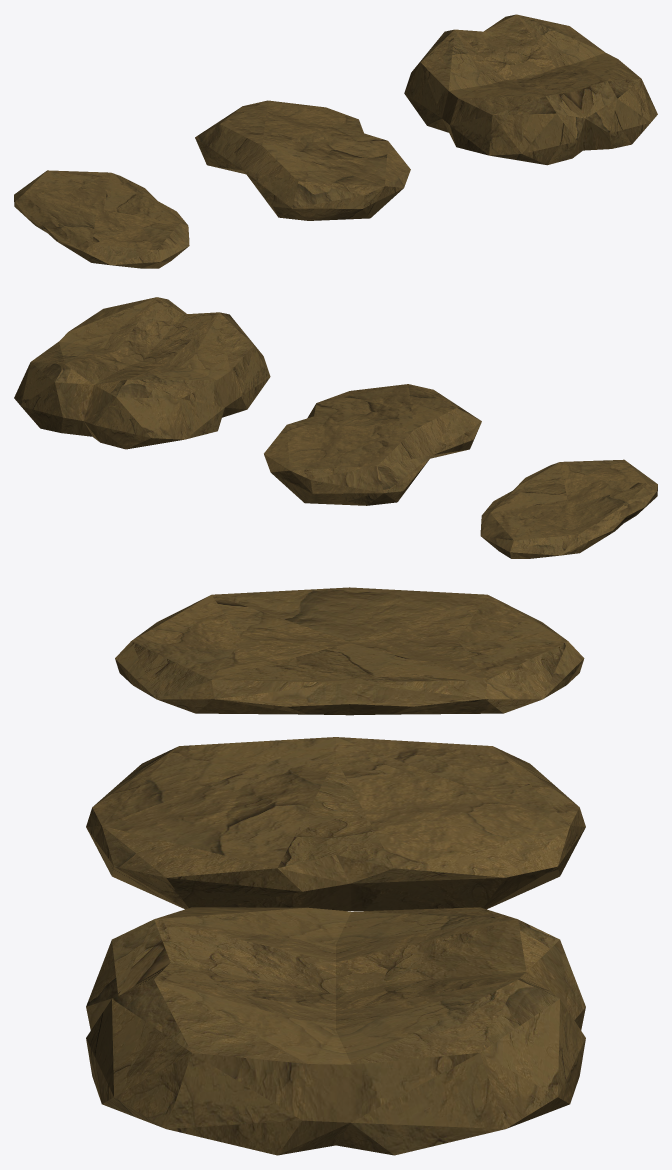
File: rocks.fbx
3 renders of one model, top to bottom at view 1: azimuth 30°, elevation 25°; view 2: azimuth 150°, elevation 25°; view 3: azimuth 270°, elevation 25°, orthographic. The views are drawn at different scales.
Visible parts, largest first — view 1: SM_Rock_Flat_003, SM_Rock_Flat_2, SM_Rock_Flat_1; view 2: SM_Rock_Flat_003, SM_Rock_Flat_2, SM_Rock_Flat_1; view 3: SM_Rock_Flat_003, SM_Rock_Flat_2, SM_Rock_Flat_1.
Boxes of the visible parts, x1=… form: SM_Rock_Flat_003: x1=404, y1=14, x2=657, y2=165; SM_Rock_Flat_2: x1=195, y1=100, x2=410, y2=220; SM_Rock_Flat_1: x1=14, y1=170, x2=189, y2=268; SM_Rock_Flat_003: x1=14, y1=297, x2=270, y2=449; SM_Rock_Flat_2: x1=264, y1=384, x2=481, y2=505; SM_Rock_Flat_1: x1=480, y1=459, x2=657, y2=558; SM_Rock_Flat_003: x1=86, y1=907, x2=585, y2=1155; SM_Rock_Flat_2: x1=86, y1=737, x2=585, y2=911; SM_Rock_Flat_1: x1=115, y1=587, x2=584, y2=715.
Size of the model in its own units: 8686 by 1096 by 3272.
1 material, 1 textured.
